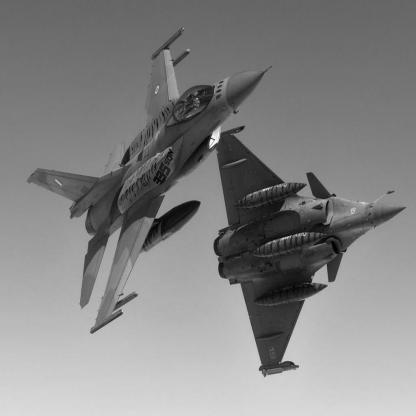F16: (27, 29, 274, 336)
Rafale: (214, 126, 408, 379)
